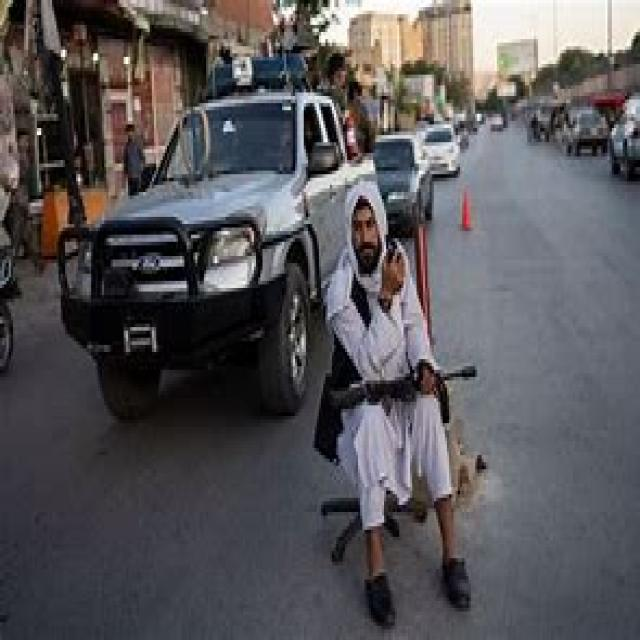LMV: (61, 92, 375, 412), (372, 132, 434, 240)
terrorist: (315, 181, 474, 622)
